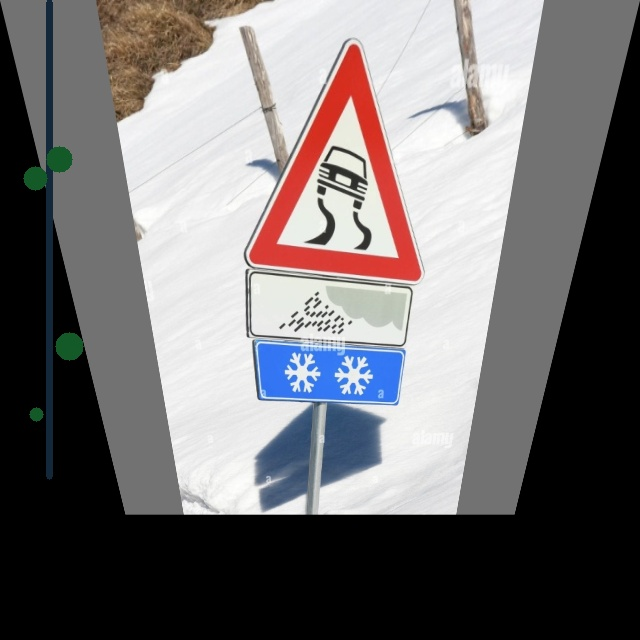Slippery_Road: (236, 40, 447, 278)
